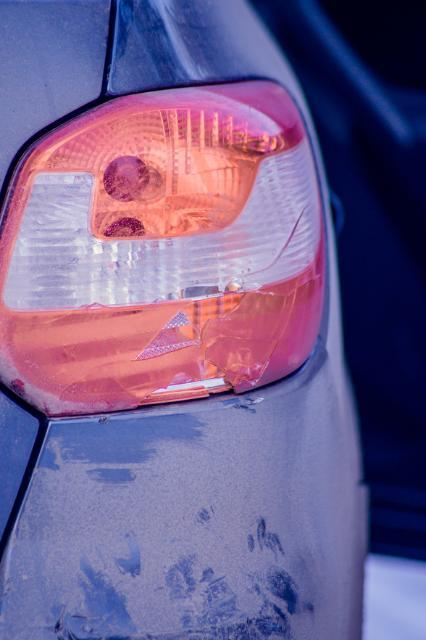Light: (0, 77, 335, 415)
